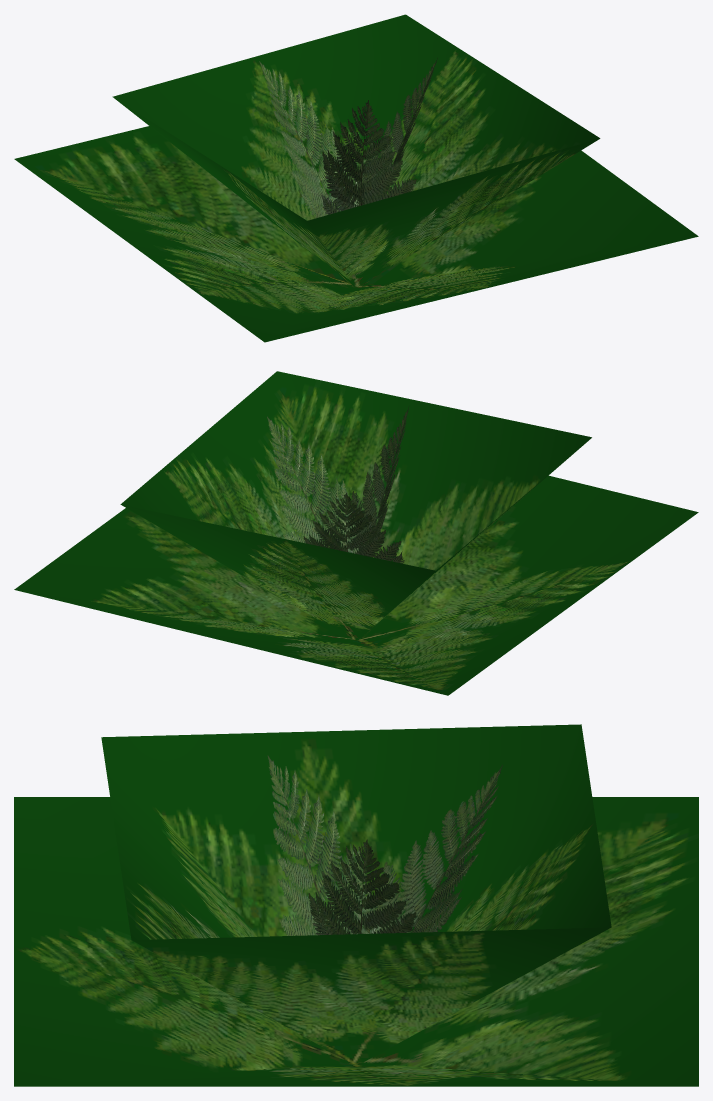
Rendered from fern_groundfern_l0.fbx.
3 renders of one model, top to bottom at view 1: azimuth 30°, elevation 25°; view 2: azimuth 150°, elevation 25°; view 3: azimuth 270°, elevation 25°, orthographic. The views are drawn at different scales.
Parts seen in each view (by area): view 1: mesh_node; view 2: mesh_node; view 3: mesh_node.
Boxes of the visible parts, x1=… form: mesh_node: x1=14, y1=14, x2=698, y2=342; mesh_node: x1=14, y1=371, x2=698, y2=695; mesh_node: x1=14, y1=724, x2=698, y2=1086.
Size of the model in its own units: 1.3 by 0.6857 by 1.3.
